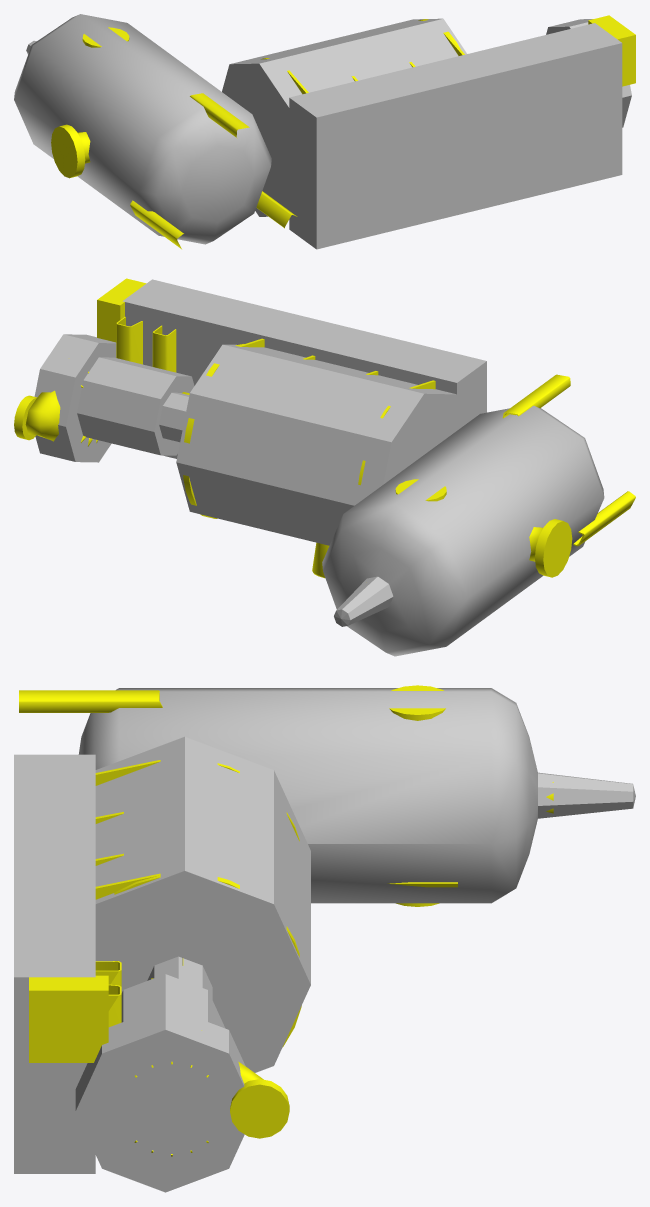
The model's file is sm_hana_bas_drainage_package.glb.
3 renders of one model, top to bottom at view 1: azimuth 30°, elevation 25°; view 2: azimuth 150°, elevation 25°; view 3: azimuth 270°, elevation 25°, orthographic. The views are drawn at different scales.
Visible parts, largest first — view 1: sm_color_common, sm_hana_bas_drainage_package; view 2: sm_color_common, sm_hana_bas_drainage_package; view 3: sm_color_common, sm_hana_bas_drainage_package.
Part boxes in pixels (left/top/right/bottom): sm_color_common: left=14, top=14, right=631, bottom=249; sm_hana_bas_drainage_package: left=51, top=15, right=635, bottom=249; sm_color_common: left=34, top=279, right=604, bottom=656; sm_hana_bas_drainage_package: left=14, top=278, right=635, bottom=578; sm_color_common: left=14, top=688, right=635, bottom=1192; sm_hana_bas_drainage_package: left=19, top=685, right=553, bottom=1156.
Bounding box in the file's own units: 4.19 × 1.44 × 3.04.
2 materials, 1 textured.
